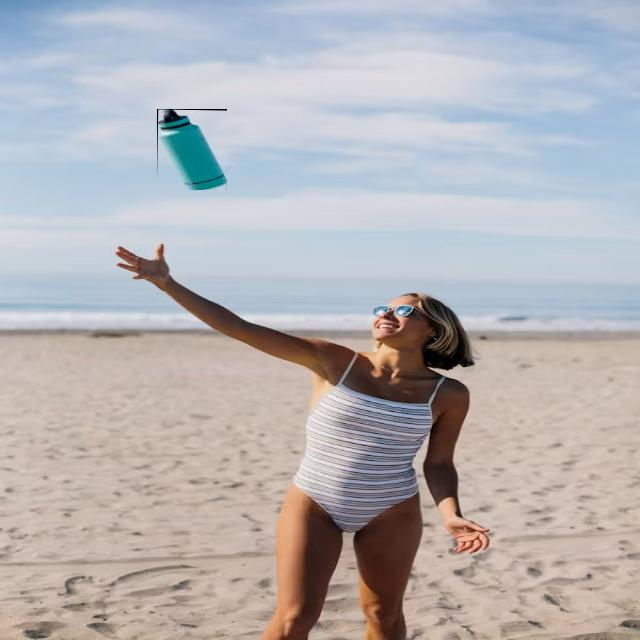Bottle: (157, 109, 227, 189)
